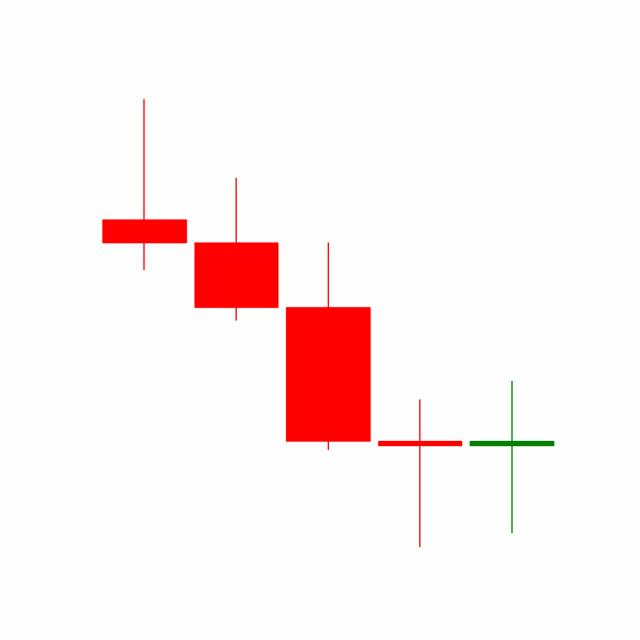Spinning Top: (373, 397, 467, 548)
